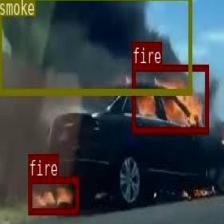fire: (131, 64, 209, 132), (28, 176, 78, 214)
smoke: (0, 0, 191, 93)
